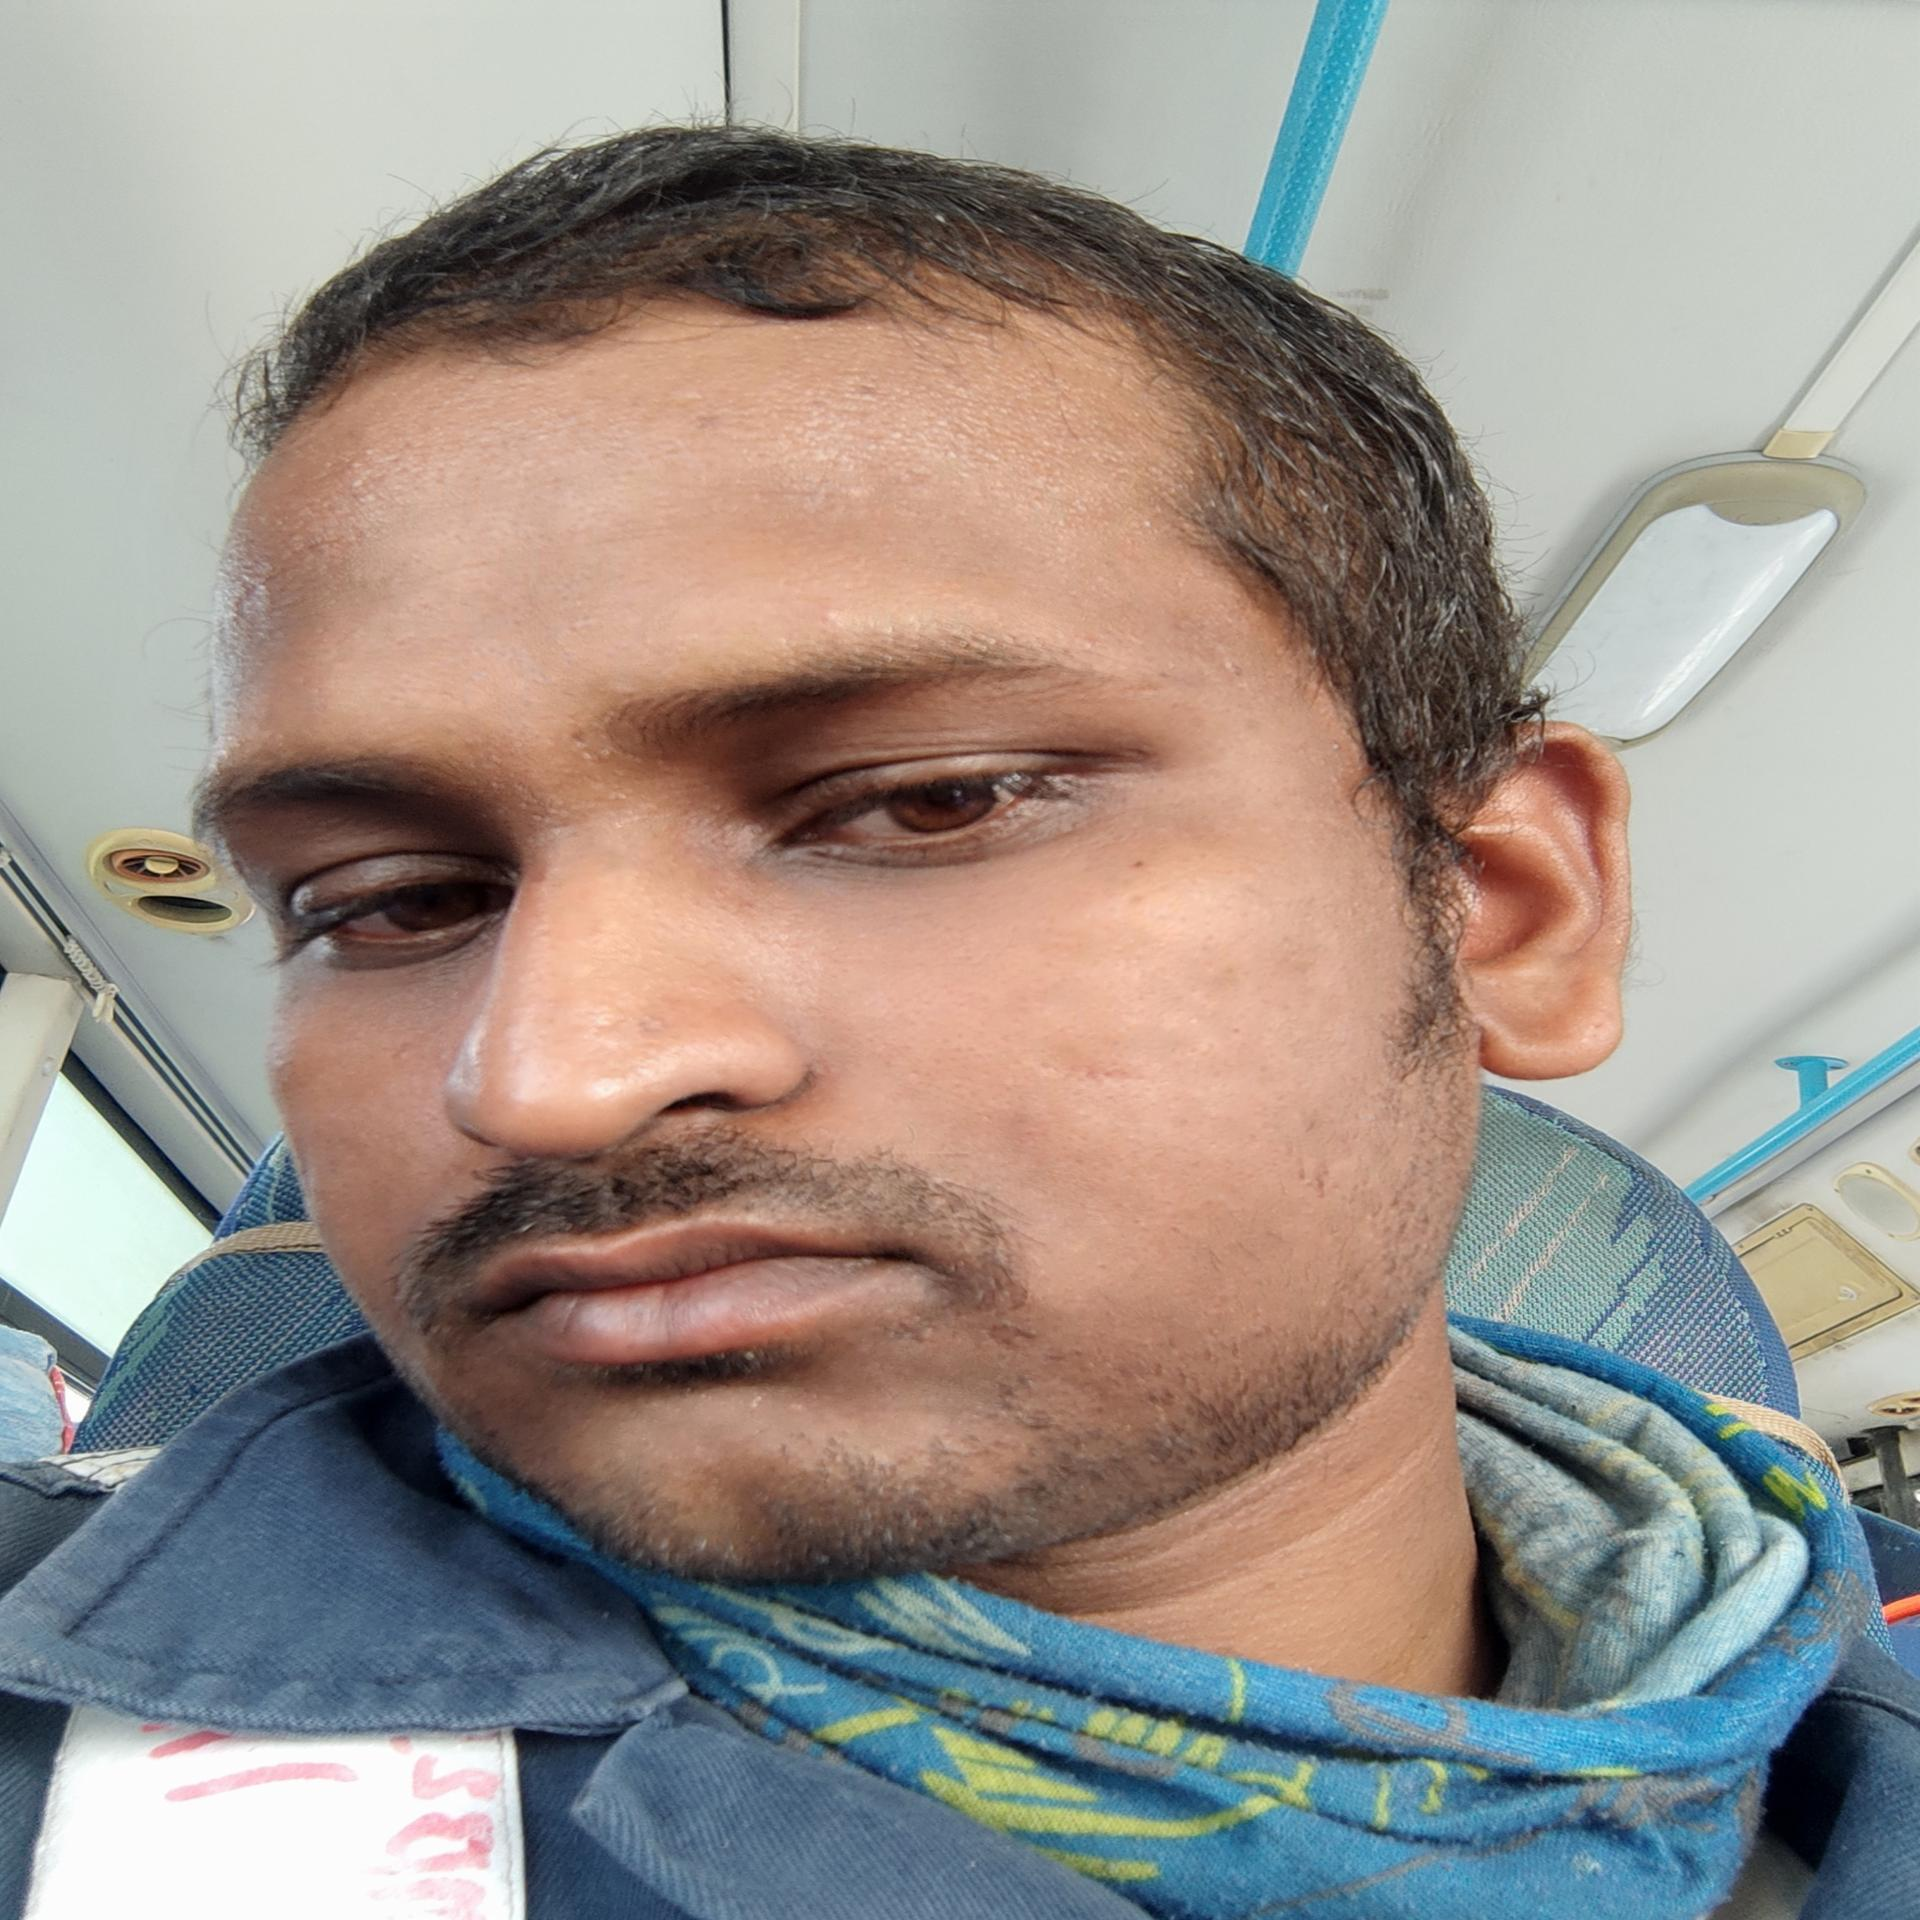Acne: (628, 1007, 677, 1044)
Wrinkles: (355, 440, 686, 533), (636, 482, 884, 505), (559, 529, 679, 557), (383, 556, 506, 580)
